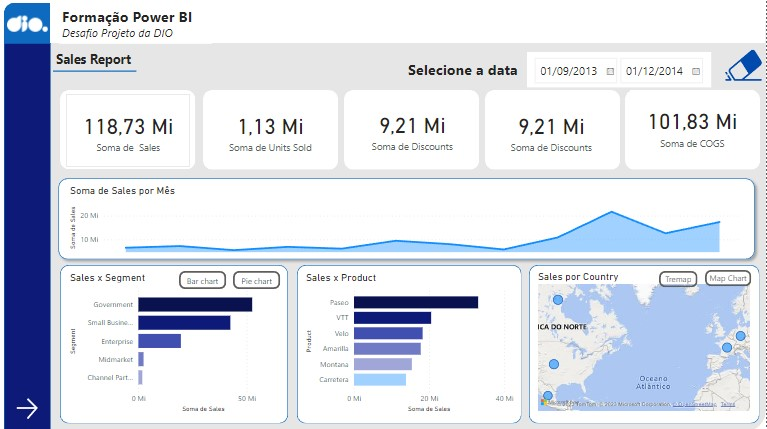

What the dashboard file says about the page in this screenshot:
{"tool":"powerbi","page":{"name":"Página 1","canvas":[1280,720],"ordinal":0},"visuals":[{"type":"shape","box":[10,5.7,1270,714.3],"z":0},{"type":"image","box":[1205.7,72.9,74.3,71.4],"z":0,"group":"g2"},{"type":"shape","box":[91.2,106.2,138.8,23.8],"z":0,"group":"g5"},{"type":"shape","box":[102.9,150,225.6,132.4],"z":0,"group":"g1"},{"type":"clusteredBarChart","title":"Sales x Segment ","fields":{"Y":["Sum(financials. Sales)"],"Category":["financials.Segment"]},"box":[114.3,451.4,355.7,240],"z":0,"group":"g4"},{"type":"map","title":"Sales por Country","fields":{"Category":["financials.Country"],"Size":["Sum(financials. Sales)"]},"box":[895.7,451.4,364.3,240],"z":0,"group":"g3"},{"type":"shape","box":[10.1,5.8,77.8,714.2],"z":1000},{"type":"textbox","box":[91.7,78.3,138.3,40],"z":1000,"group":"g5"},{"type":"slicer","fields":{"Values":["financials.Date"]},"box":[881.5,85.8,307.1,58.6],"z":1000,"group":"g2"},{"type":"shape","box":[341.3,150,225.3,132.9],"z":1000,"group":"g1"},{"type":"actionButton","title":"Botão - bar","box":[301.4,451.4,78.6,30],"z":1500,"group":"g4"},{"type":"actionButton","title":"Botão - tremap","box":[1103,452.2,64.3,27.1],"z":1500,"group":"g3"},{"type":"shape","box":[10.1,5.8,77.8,67.7],"z":2000},{"type":"textbox","box":[678.6,92.9,201.4,45.7],"z":2000,"group":"g2"},{"type":"shape","box":[576.7,150,225.3,132.9],"z":2000,"group":"g1"},{"type":"actionButton","title":"Botão - map","box":[1178.8,450.8,77.1,27.1],"z":2000,"group":"g3"},{"type":"actionButton","title":"Botão - pie","box":[391.4,451.4,78.6,30],"z":2000,"group":"g4"},{"type":"image","box":[10.1,0,77.8,77.8],"z":3000},{"type":"actionButton","box":[1205.7,78.6,74.3,65.7],"z":3000,"group":"g2"},{"type":"shape","box":[810.7,150,225.3,132.9],"z":3000,"group":"g1"},{"type":"shape","box":[87.1,5.7,1192.9,67.1],"z":4000},{"type":"shape","box":[1044.8,150,225.3,132.9],"z":4000,"group":"g1"},{"type":"textbox","box":[102.2,5.8,254.9,67.7],"z":5000},{"type":"card","fields":{"Values":["Sum(financials. Sales)"]},"box":[112.9,155.8,207.1,122.6],"z":5000,"group":"g1"},{"type":"group","id":"g1","title":"Cartões","box":[102.9,150,1167.1,132.9],"z":6000},{"type":"card","fields":{"Values":["Sum(financials.Discounts)"]},"box":[585.8,154.4,207.1,122.6],"z":6000,"group":"g1"},{"type":"card","fields":{"Values":["Sum(financials.Units Sold)"]},"box":[350,155.8,207.1,122.6],"z":7000,"group":"g1"},{"type":"shape","box":[91.4,288.6,1178.6,152.9],"z":7000},{"type":"card","fields":{"Values":["Sum(financials.Discounts)"]},"box":[818.6,155.8,207.1,122.6],"z":8000,"group":"g1"},{"type":"shape","box":[102.9,441.4,380,264.3],"z":8000},{"type":"card","fields":{"Values":["Sum(financials.COGS)"]},"box":[1052.9,150,207.1,120],"z":9000},{"type":"shape","box":[498.6,441.4,374.3,264.3],"z":10000},{"type":"shape","box":[885.7,441.4,384.3,264.3],"z":11000},{"type":"areaChart","fields":{"Category":["financials.Date.Variation.Hierarquia de datas.Mês"],"Y":["Sum(financials. Sales)"]},"box":[114.3,307.1,1128.6,118.6],"z":12000},{"type":"clusteredBarChart","title":"Sales x Product","fields":{"Y":["Sum(financials. Sales)"],"Category":["financials.Product"]},"box":[508.6,451.4,355.7,240],"z":13000},{"type":"group","id":"g2","title":"FiltroPorData","box":[678.6,72.9,601.4,71.4],"z":14000},{"type":"group","id":"g3","title":"SalesxPais","box":[895.7,450.8,364.3,243.5],"z":15000},{"type":"group","id":"g4","title":"sales x segmento","box":[114.3,451.4,355.7,240],"z":16000},{"type":"group","id":"g5","title":"titleReport","box":[25.1,78.3,204.9,625.2],"z":17000},{"type":"actionButton","box":[25.1,657.8,62.9,45.7],"z":17001,"group":"g5"}]}

Visuals, with their boxes on the page's 1280x720 design canvas (x1, y1, x2, y2). These are canvas units, not pixel positions in the 767x429 screenshot, which may show the page scaled, cropped or inside an application window:
shape: <bbox>10, 6, 1280, 720</bbox>
image: <bbox>1206, 73, 1280, 144</bbox>
shape: <bbox>91, 106, 230, 130</bbox>
shape: <bbox>103, 150, 328, 282</bbox>
"Sales x Segment " clusteredBarChart: <bbox>114, 451, 470, 691</bbox>
"Sales por Country" map: <bbox>896, 451, 1260, 691</bbox>
shape: <bbox>10, 6, 88, 720</bbox>
textbox: <bbox>92, 78, 230, 118</bbox>
slicer - financials.Date: <bbox>882, 86, 1189, 144</bbox>
shape: <bbox>341, 150, 567, 283</bbox>
"Botão - bar" actionButton: <bbox>301, 451, 380, 481</bbox>
"Botão - tremap" actionButton: <bbox>1103, 452, 1167, 479</bbox>
shape: <bbox>10, 6, 88, 74</bbox>
textbox: <bbox>679, 93, 880, 139</bbox>
shape: <bbox>577, 150, 802, 283</bbox>
"Botão - map" actionButton: <bbox>1179, 451, 1256, 478</bbox>
"Botão - pie" actionButton: <bbox>391, 451, 470, 481</bbox>
image: <bbox>10, 0, 88, 78</bbox>
actionButton: <bbox>1206, 79, 1280, 144</bbox>
shape: <bbox>811, 150, 1036, 283</bbox>
shape: <bbox>87, 6, 1280, 73</bbox>
shape: <bbox>1045, 150, 1270, 283</bbox>
textbox: <bbox>102, 6, 357, 74</bbox>
card - Sum(financials. Sales): <bbox>113, 156, 320, 278</bbox>
"Cartões" group: <bbox>103, 150, 1270, 283</bbox>
card - Sum(financials.Discounts): <bbox>586, 154, 793, 277</bbox>
card - Sum(financials.Units Sold): <bbox>350, 156, 557, 278</bbox>
shape: <bbox>91, 289, 1270, 442</bbox>
card - Sum(financials.Discounts): <bbox>819, 156, 1026, 278</bbox>
shape: <bbox>103, 441, 483, 706</bbox>
card - Sum(financials.COGS): <bbox>1053, 150, 1260, 270</bbox>
shape: <bbox>499, 441, 873, 706</bbox>
shape: <bbox>886, 441, 1270, 706</bbox>
areaChart - financials.Date.Variation.Hierarquia de datas.Mês x Sum(financials. Sales): <bbox>114, 307, 1243, 426</bbox>
"Sales x Product" clusteredBarChart: <bbox>509, 451, 864, 691</bbox>
"FiltroPorData" group: <bbox>679, 73, 1280, 144</bbox>
"SalesxPais" group: <bbox>896, 451, 1260, 694</bbox>
"sales x segmento" group: <bbox>114, 451, 470, 691</bbox>
"titleReport" group: <bbox>25, 78, 230, 704</bbox>
actionButton: <bbox>25, 658, 88, 704</bbox>
